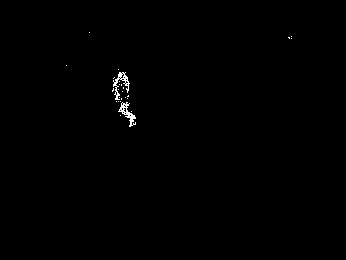person: (111, 69, 137, 128)
